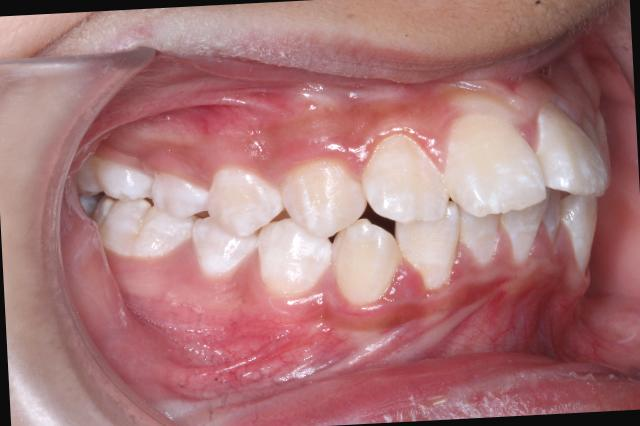canine class III 1/4: (250, 139, 406, 316)
molar class III 1/2: (65, 140, 193, 266)
